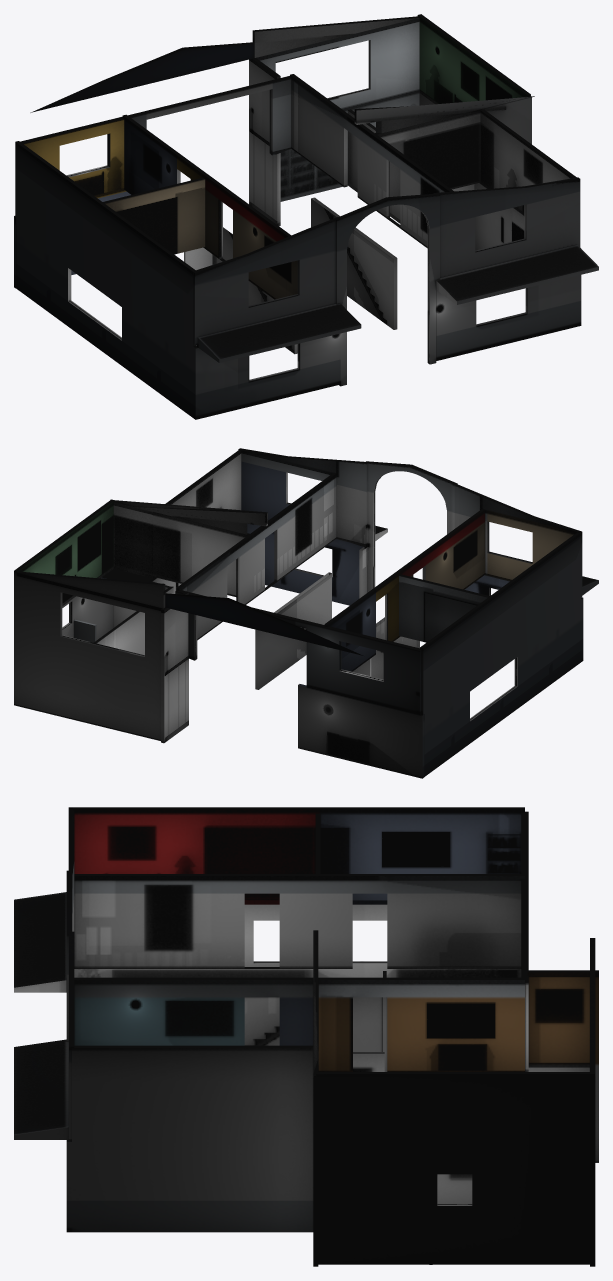
Rendered from casa.gltf.glb.
The picture shows the model from 3 angles, top to bottom: view 1: azimuth 30°, elevation 25°; view 2: azimuth 150°, elevation 25°; view 3: azimuth 270°, elevation 25°; orthographic projection. The views are drawn at different scales.
Parts seen in each view (by area): view 1: paredes_mansion; view 2: paredes_mansion; view 3: paredes_mansion.
Part boxes in pixels (x1,y1,x2,y2): paredes_mansion: (14, 14, 598, 419); paredes_mansion: (14, 448, 598, 778); paredes_mansion: (14, 807, 598, 1266).
Size of the model in its own units: 18.27 by 7.18 by 16.68.
1 material, 1 textured.
